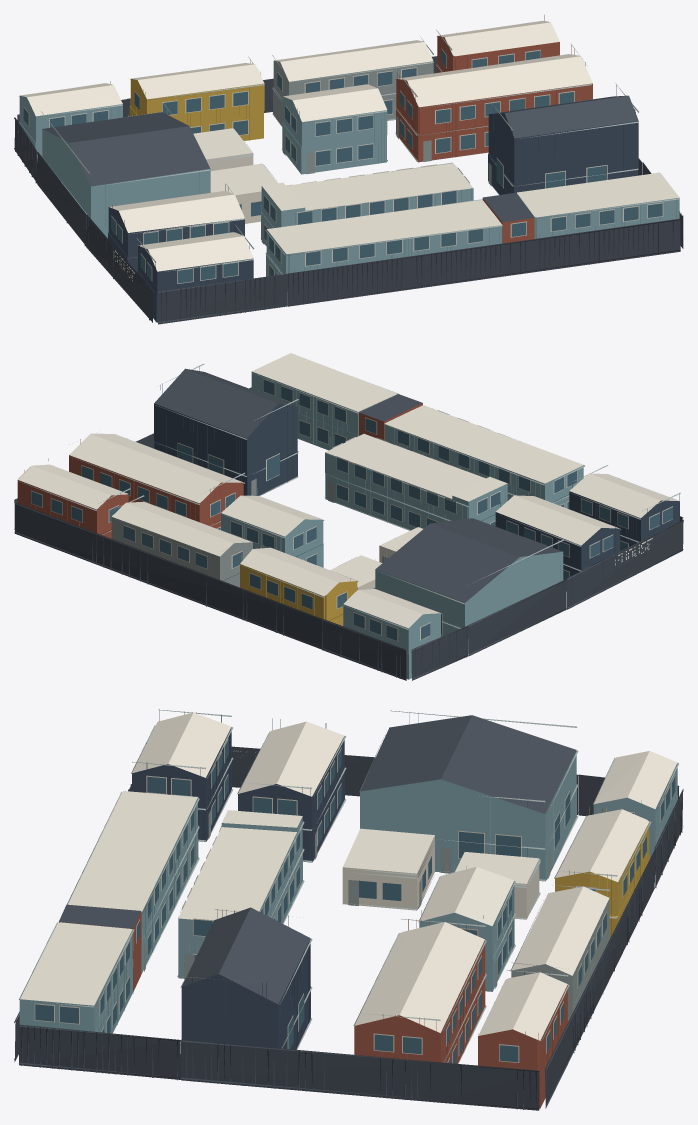
The model's file is treehouse-ndsm.lod1.glb.
3 views of the same model, one above another, from view 1: azimuth 30°, elevation 25°; view 2: azimuth 150°, elevation 25°; view 3: azimuth 270°, elevation 25° (orthographic). The views are drawn at different scales.
Parts seen in each view (by area): view 1: treehouse-ndsm; view 2: treehouse-ndsm; view 3: treehouse-ndsm.
Part boxes in pixels (<box>): treehouse-ndsm: <box>14,15,683,324</box>; treehouse-ndsm: <box>14,353,683,680</box>; treehouse-ndsm: <box>14,709,683,1110</box>.
Bounding box in the file's own units: 61.29 × 9.31 × 52.58.
